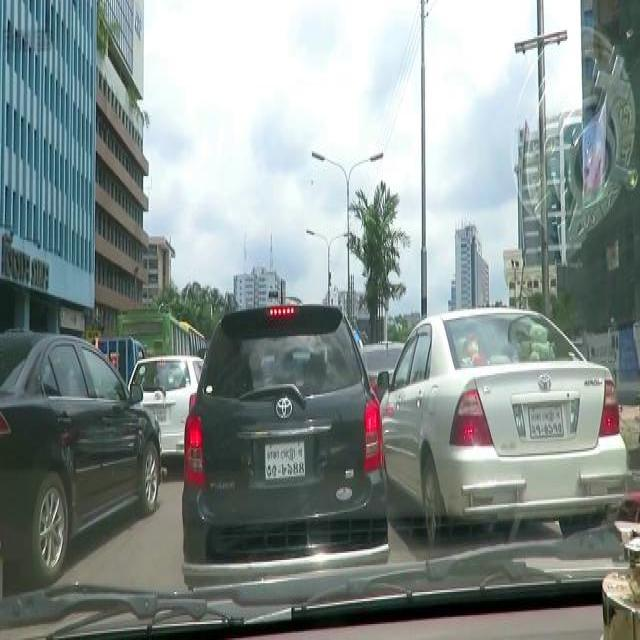5: (375, 303, 633, 568), (178, 300, 394, 596), (0, 328, 168, 589), (128, 350, 208, 475)
Truck: (118, 307, 190, 361)
